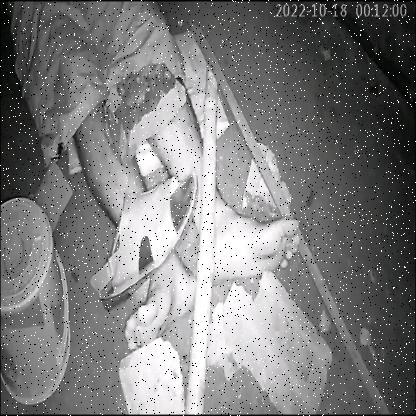leg: (194, 205, 312, 294), (110, 258, 201, 355)
